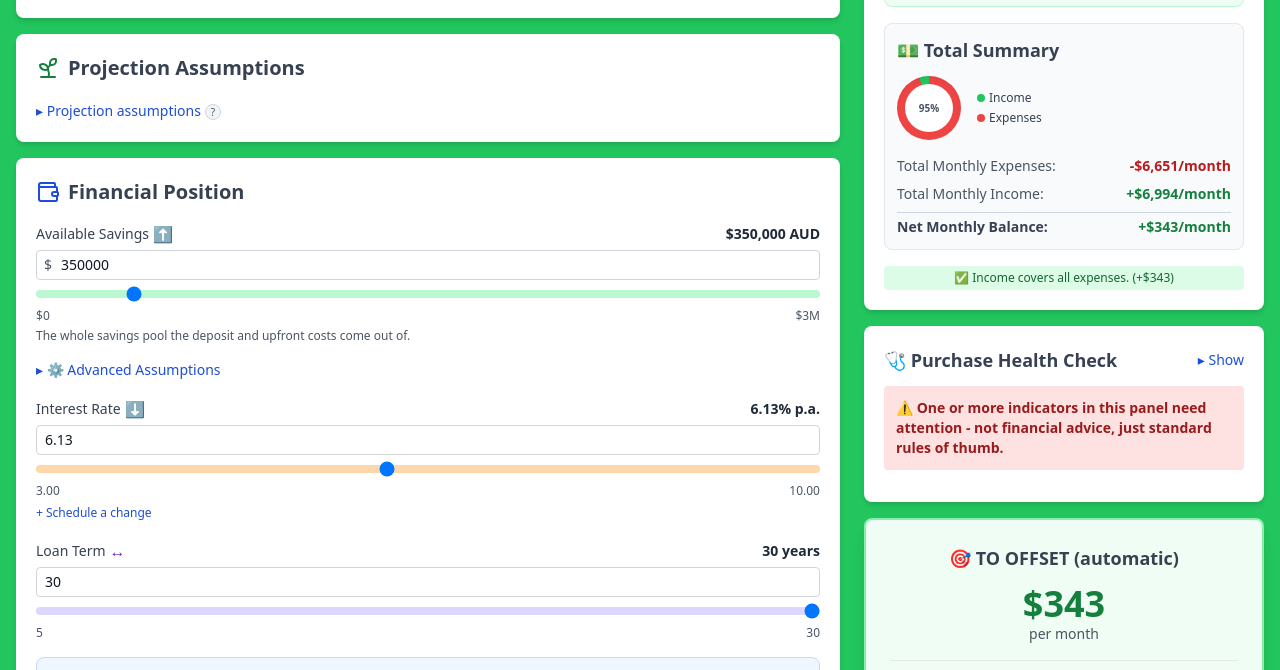
it: Emergency/Vacancy Buffer settlement-shortfall display (TODO-149) › Vacancy Buffer shows "Can't cover settlement" too - it shares the same liquidSavings numerator
(page scrolled)
Click the button "▸ Show": (1221, 360) [1198, 350, 1244, 370]
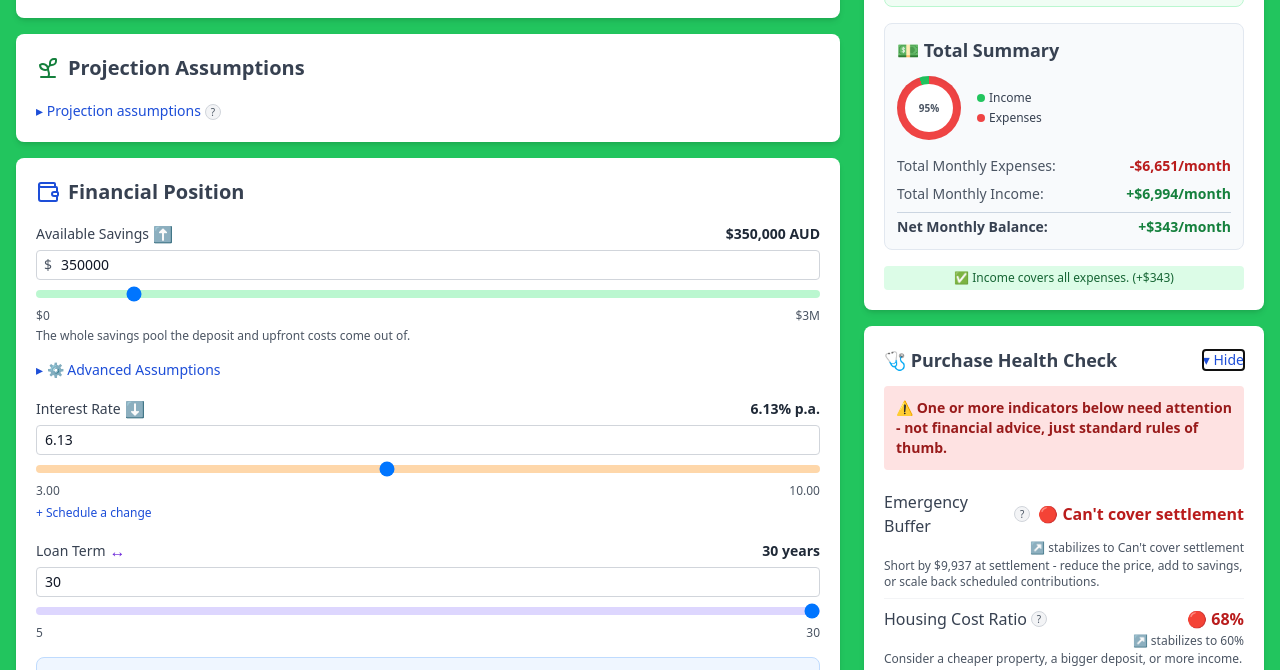
Check: the text "🔴 Can't cover settlement" is shown, box [1038, 502, 1244, 526]
